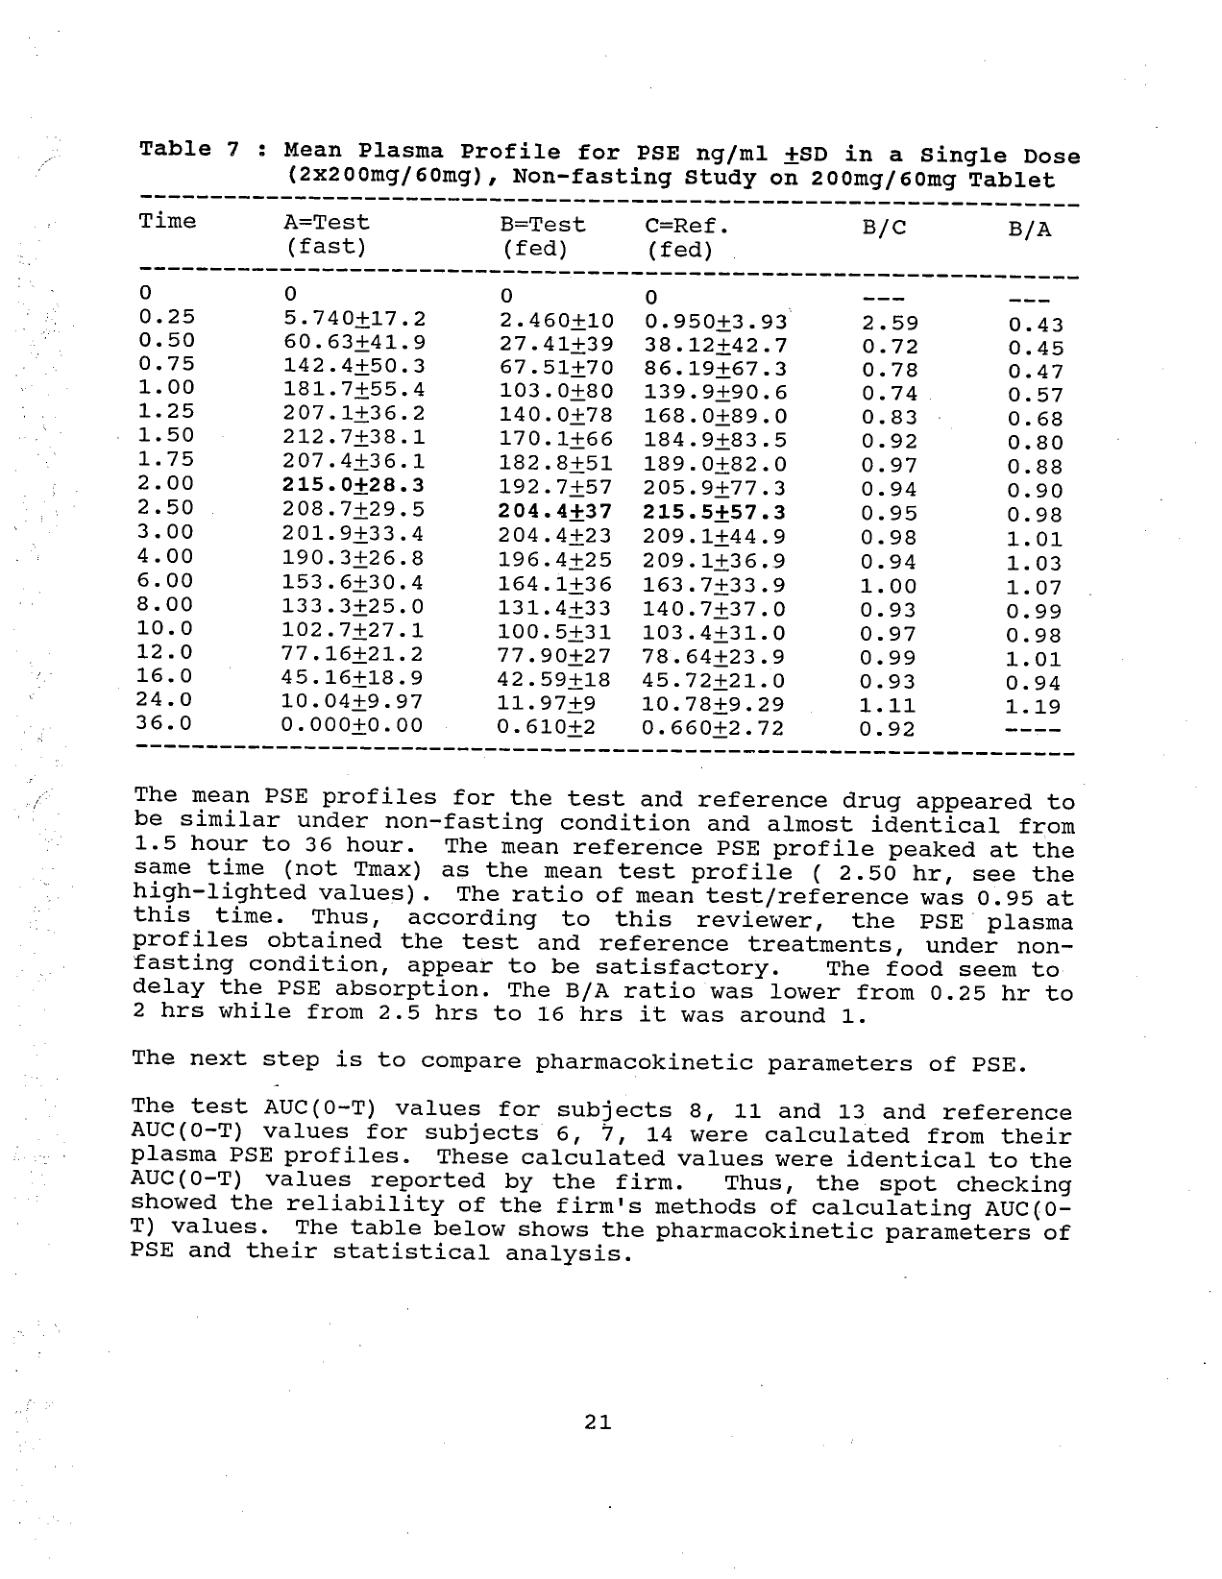partial_lined: (132, 191, 1084, 757)
